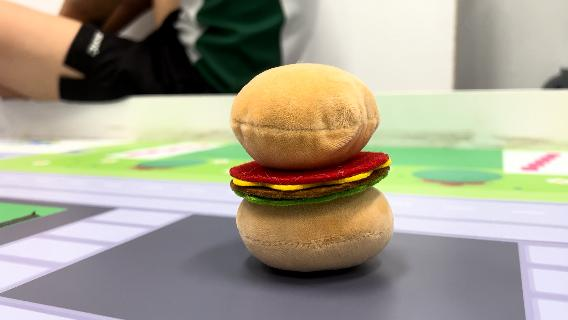burger: (224, 59, 400, 274)
